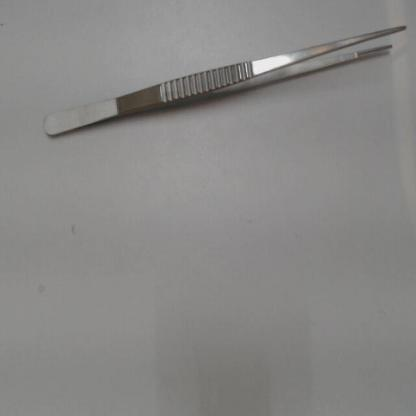DeBakey Dissector: (37, 16, 413, 150)
